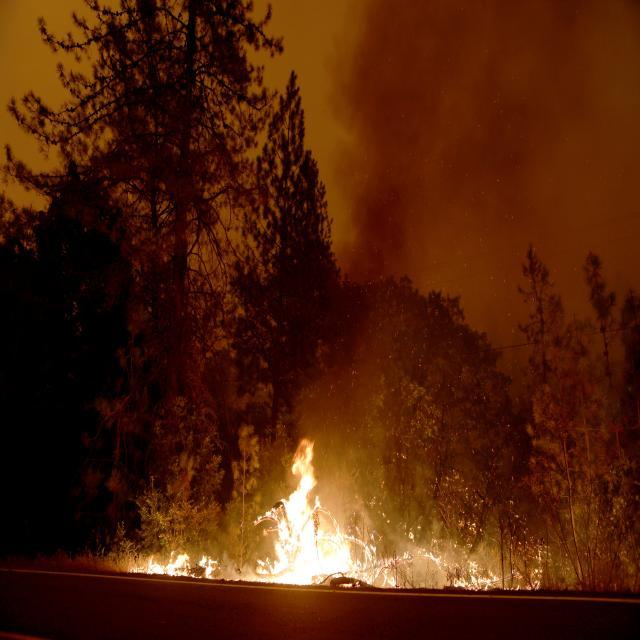Fire: (253, 440, 359, 585), (362, 542, 544, 592), (128, 551, 222, 578)
Smoke: (331, 0, 611, 274), (304, 195, 409, 442), (322, 442, 364, 518), (411, 549, 448, 588)
